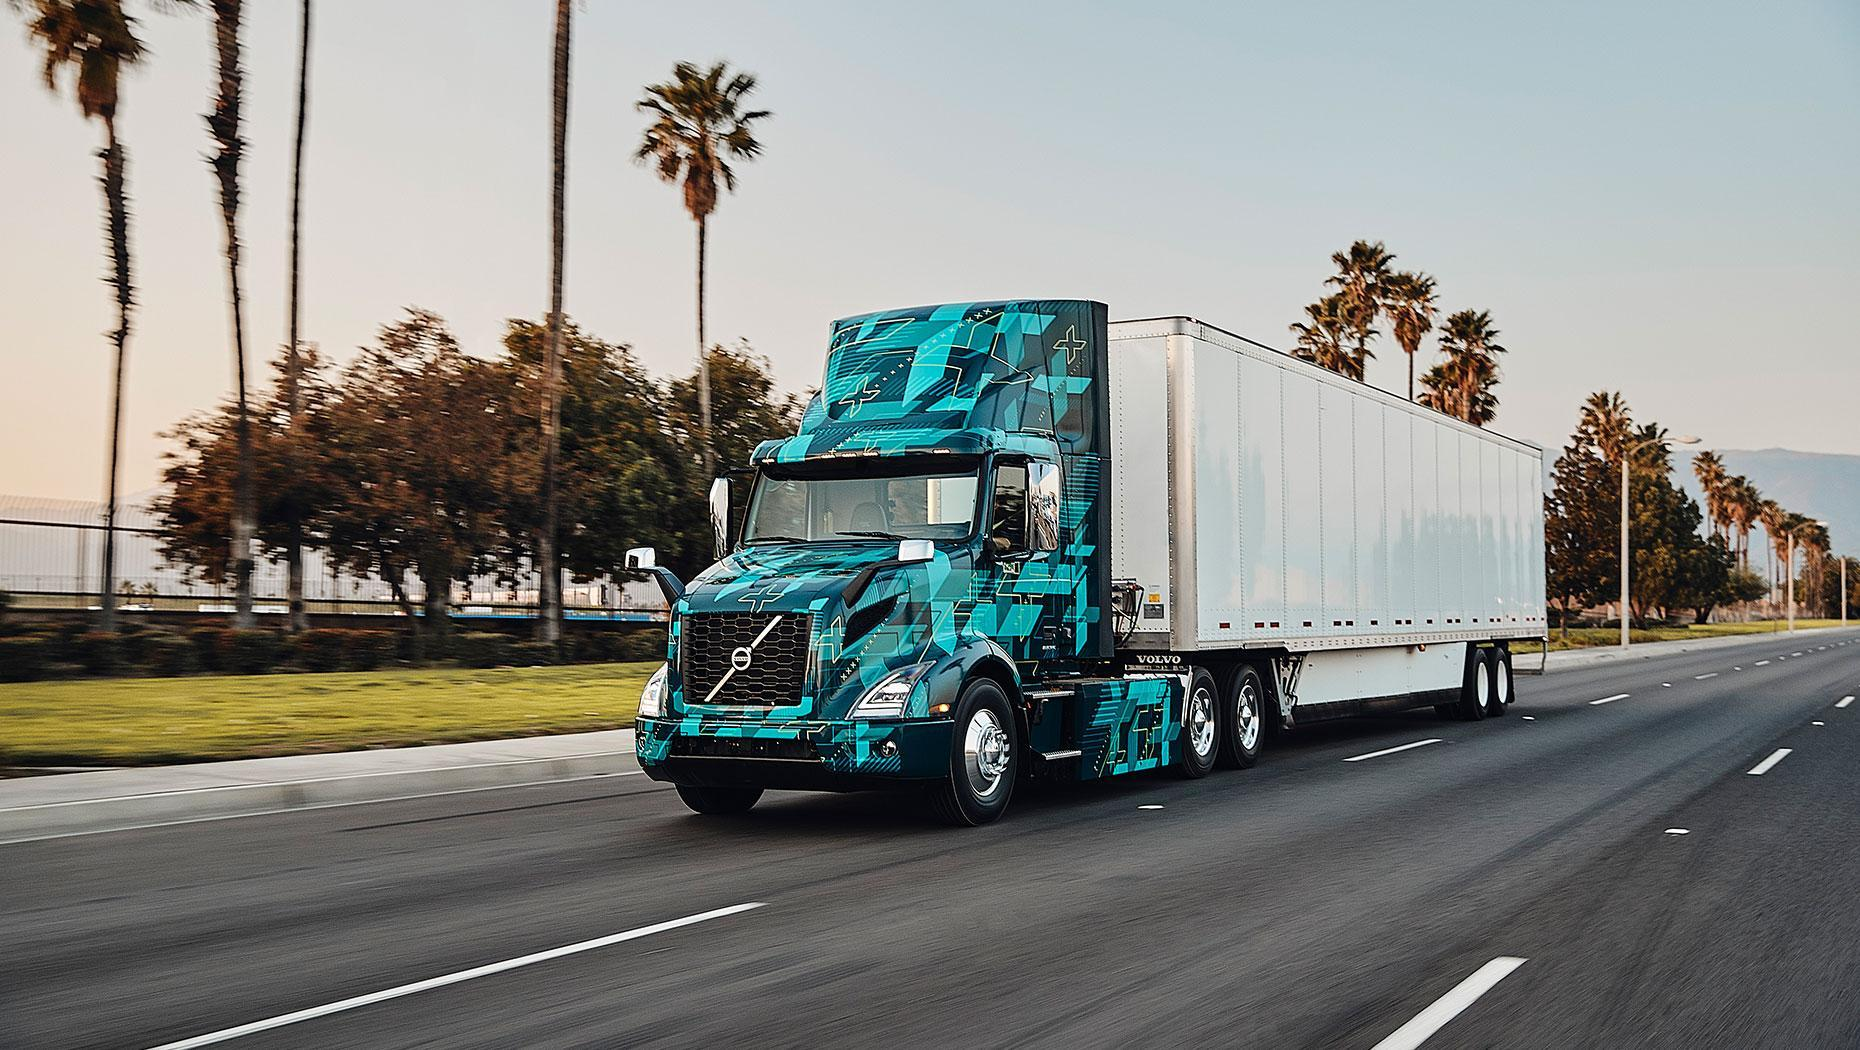truck: (622, 298, 1548, 828)
